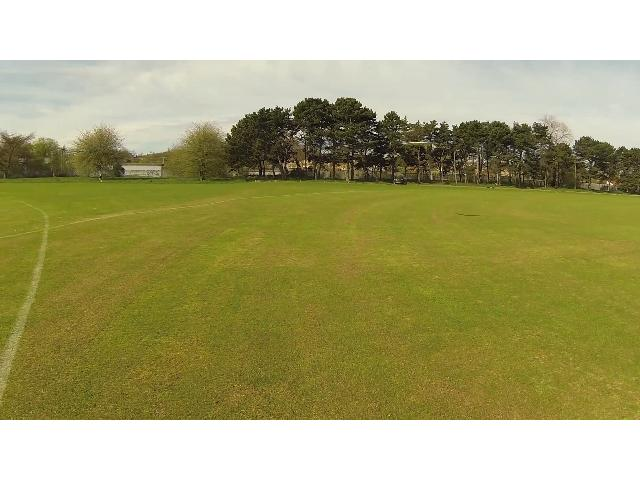Anti-Drone: (398, 130, 442, 152)
